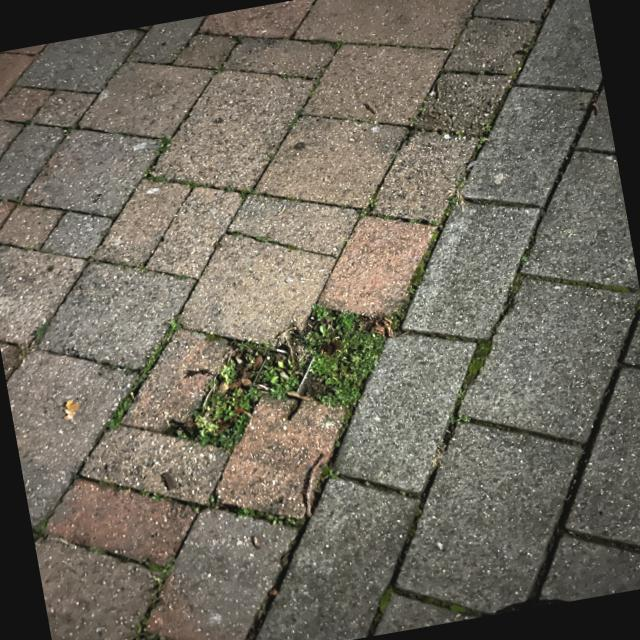leaves: (59, 397, 87, 425)
pavement: (0, 0, 639, 639)
plants: (30, 316, 54, 341)
weedling: (165, 223, 445, 453), (237, 509, 298, 525), (317, 470, 342, 489)
